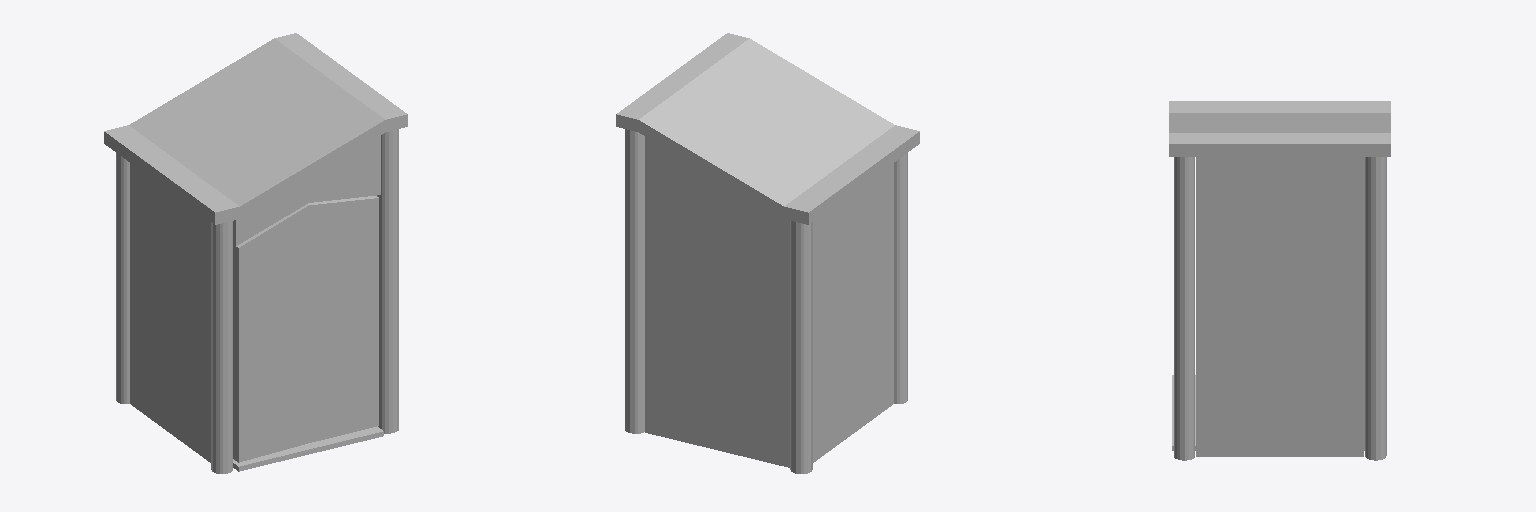
Rendered from Bano.obj.
The picture shows the model from 3 angles: view 1: azimuth 30°, elevation 25°; view 2: azimuth 150°, elevation 25°; view 3: azimuth 270°, elevation 25°; orthographic projection.
Parts seen in each view (by area): view 1: Baño_Cube; view 2: Baño_Cube; view 3: Baño_Cube.
Boxes of the visible parts, box(x1,y1,x2,y2) form: Baño_Cube: box(104, 33, 407, 473); Baño_Cube: box(616, 33, 919, 473); Baño_Cube: box(1169, 101, 1390, 460).
Bounding box in the file's own units: 7.93 × 12.49 × 7.93.